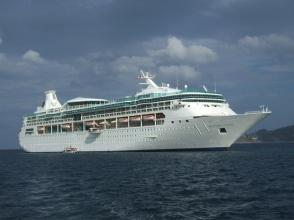youlun: (12, 68, 272, 159)
